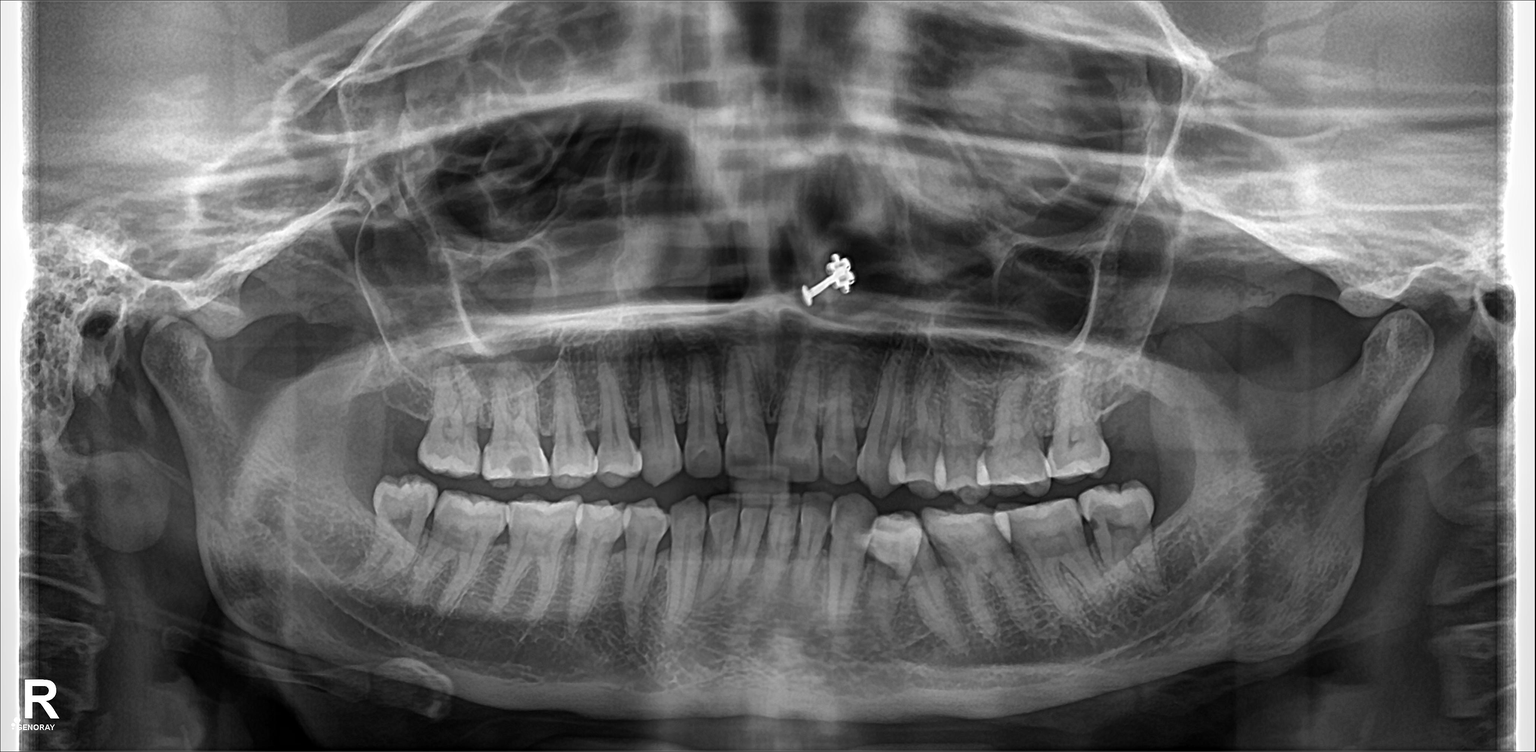Missing Tooth: (376, 365, 426, 454), (1093, 372, 1147, 453), (330, 361, 381, 444), (1162, 482, 1198, 566)
